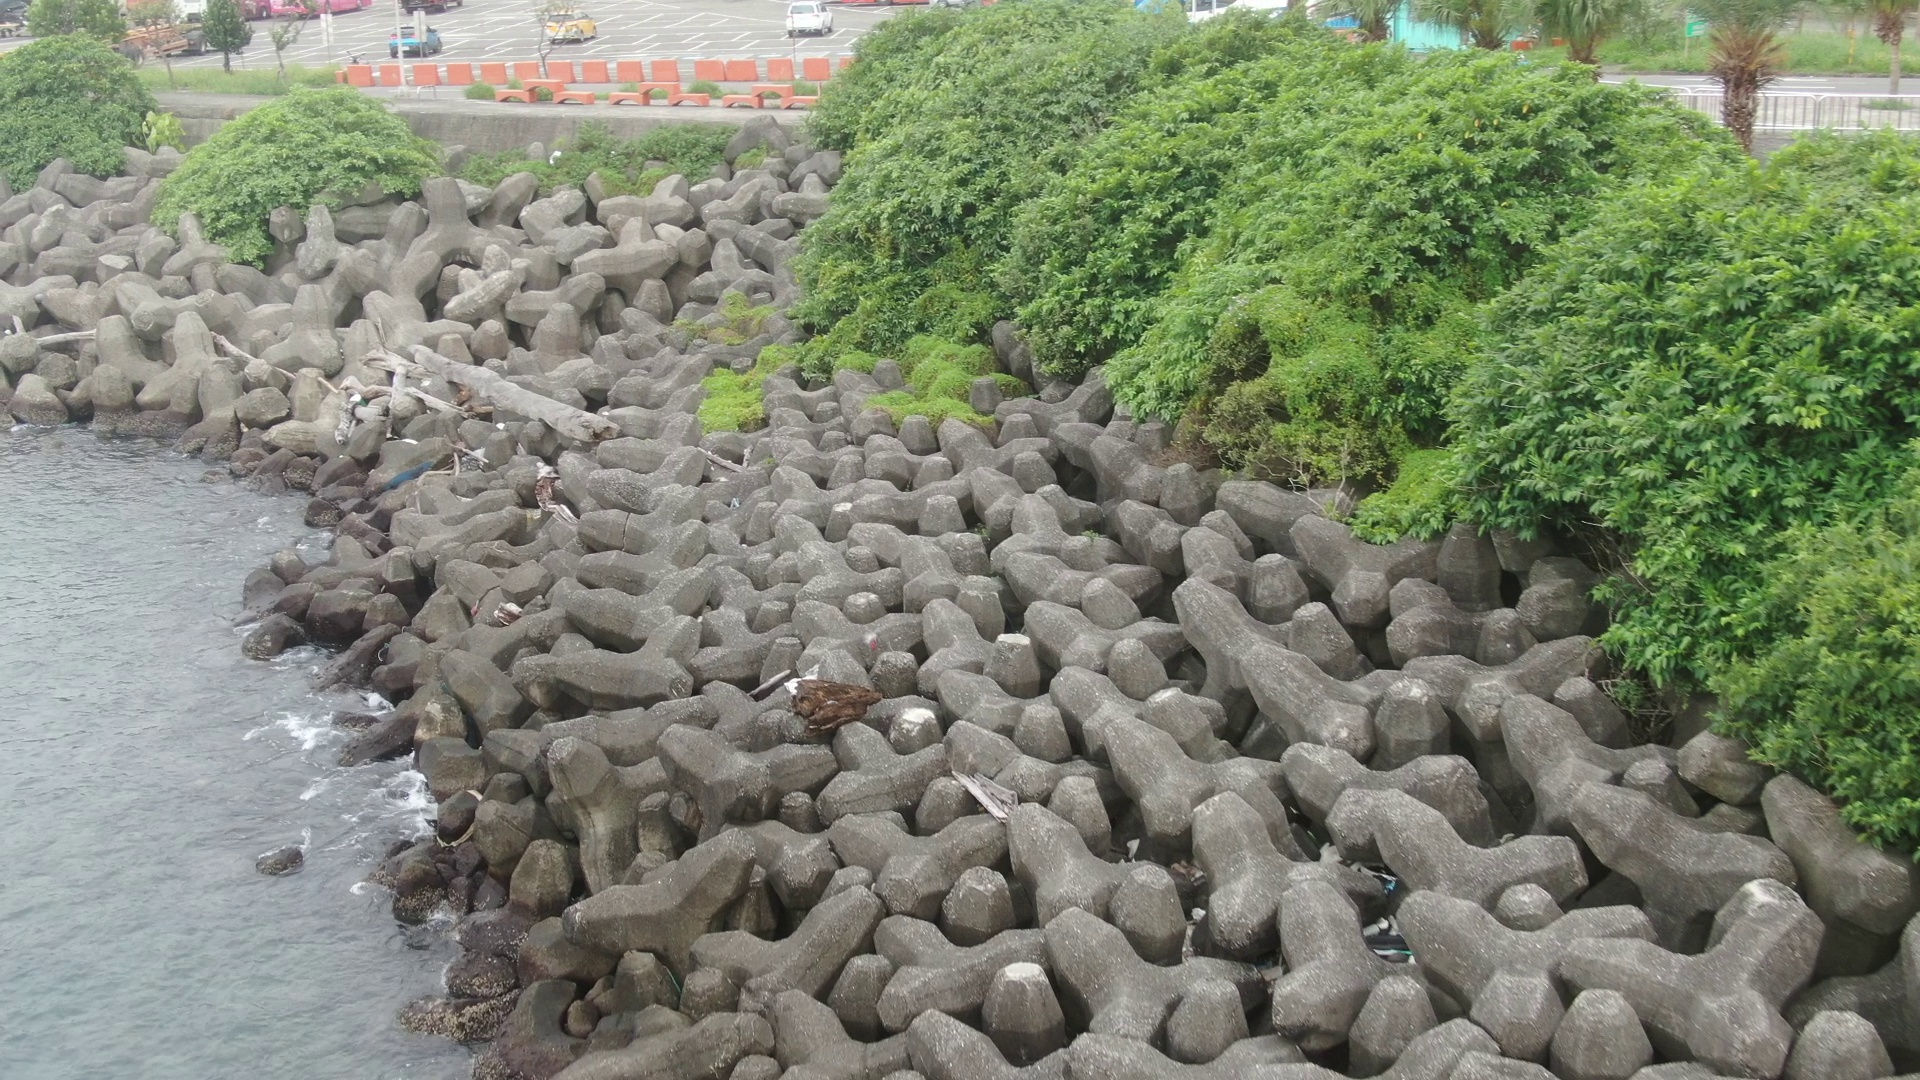garbage: (1327, 837, 1441, 986), (355, 454, 452, 502)
